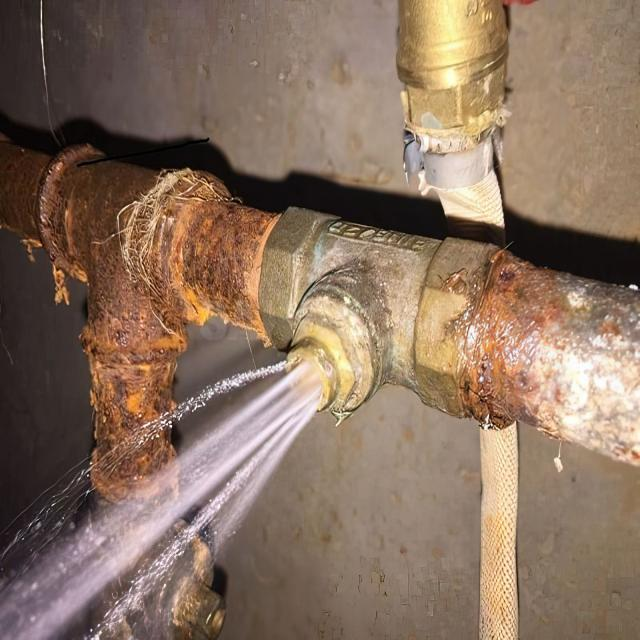leak: (0, 362, 322, 638)
